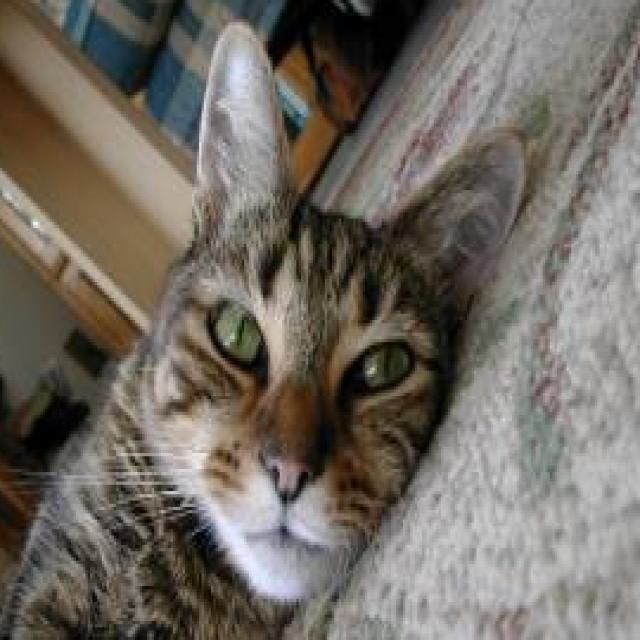Bengal: (0, 16, 531, 640)
